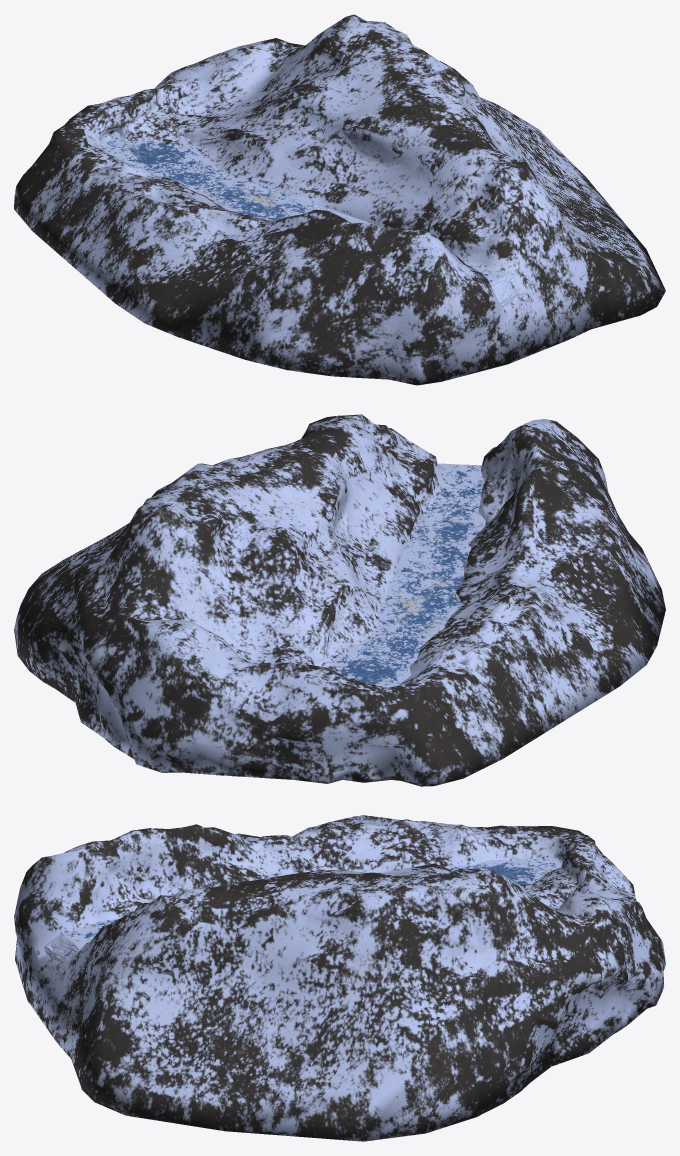
File: mountain.glb
3 renders of one model, top to bottom at view 1: azimuth 30°, elevation 25°; view 2: azimuth 150°, elevation 25°; view 3: azimuth 270°, elevation 25°, orthographic. The views are drawn at different scales.
Parts seen in each view (by area): view 1: DioramaDupe, IceCopy; view 2: DioramaDupe, IceCopy; view 3: DioramaDupe, IceCopy.
Boxes of the visible parts, x1,y1,x2,y2 form: DioramaDupe: [14, 14, 665, 385]; IceCopy: [104, 132, 521, 306]; DioramaDupe: [14, 414, 665, 786]; IceCopy: [322, 463, 485, 687]; DioramaDupe: [14, 815, 665, 1141]; IceCopy: [44, 858, 561, 964].
Bounding box in the file's own units: 249 × 83.41 × 273.
Materials: 2 (2 with a texture image).
